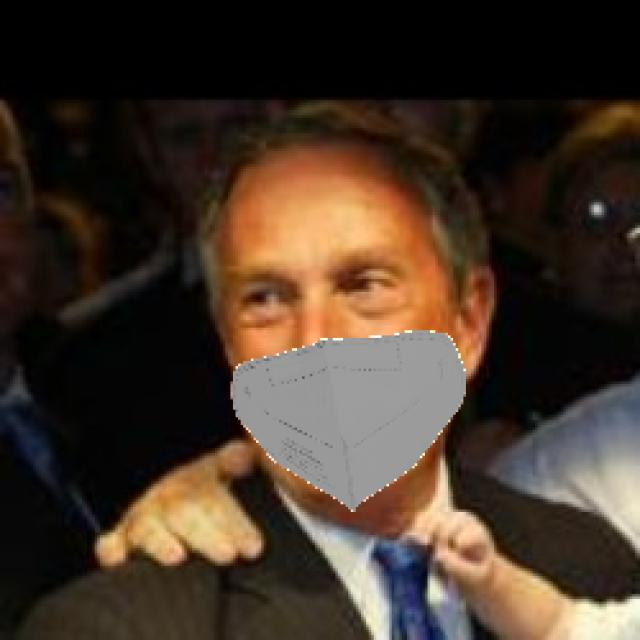mask: (223, 313, 483, 512)
